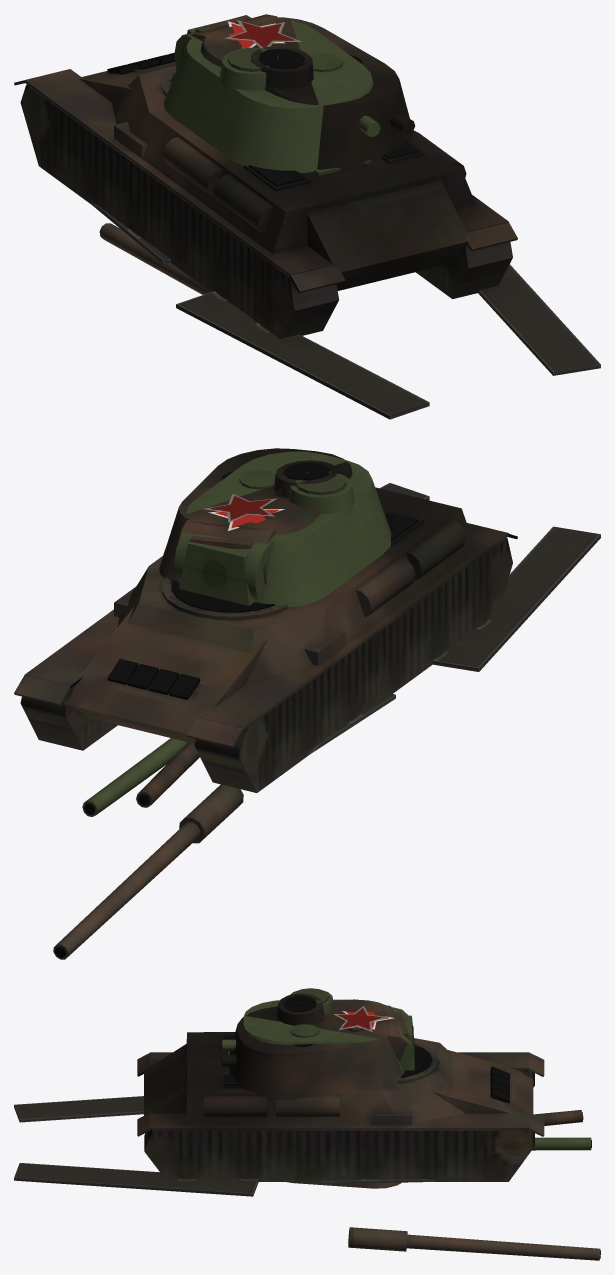
3 renders of one model, top to bottom at view 1: azimuth 30°, elevation 25°; view 2: azimuth 150°, elevation 25°; view 3: azimuth 270°, elevation 25°, orthographic. The views are drawn at different scales.
Parts seen in each view (by area): view 1: hull_blown, turret_ok, turret_ko, hull_trackL, hull_trackR, gun_blown; view 2: hull_blown, turret_ok, turret_ko, hull_trackL, gun_blown, gun_ok, gun_ko; view 3: hull_blown, turret_ko, hull_trackR, turret_ok, gun_blown, hull_trackL, gun_ok, gun_ko, turret_blown.
Part boxes in pixels (x1=…): hull_blown: x1=14, y1=52, x2=517, y2=338; turret_ok: x1=164, y1=20, x2=380, y2=172; turret_ko: x1=181, y1=14, x2=415, y2=170; hull_trackL: x1=91, y1=201, x2=429, y2=419; hull_trackR: x1=478, y1=264, x2=600, y2=375; gun_blown: x1=99, y1=223, x2=210, y2=294; hull_blown: x1=14, y1=487, x2=517, y2=792; turret_ok: x1=174, y1=451, x2=391, y2=607; turret_ko: x1=159, y1=448, x2=352, y2=584; hull_trackL: x1=309, y1=526, x2=600, y2=754; gun_blown: x1=53, y1=784, x2=243, y2=959; gun_ok: x1=82, y1=738, x2=187, y2=816; gun_ko: x1=136, y1=742, x2=199, y2=807; hull_blown: x1=137, y1=1032, x2=544, y2=1181; turret_ko: x1=220, y1=993, x2=409, y2=1100; hull_trackR: x1=14, y1=1163, x2=434, y2=1196; turret_ok: x1=222, y1=988, x2=414, y2=1073; gun_blown: x1=348, y1=1227, x2=600, y2=1260; hull_trackL: x1=14, y1=1096, x2=143, y2=1122; gun_ok: x1=532, y1=1137, x2=591, y2=1150; gun_ko: x1=534, y1=1110, x2=583, y2=1125; turret_blown: x1=287, y1=1182, x2=401, y2=1188.
Bounding box in the file's own units: 4.31 × 4.68 × 10.14.
Materials: 21 (21 with a texture image).
